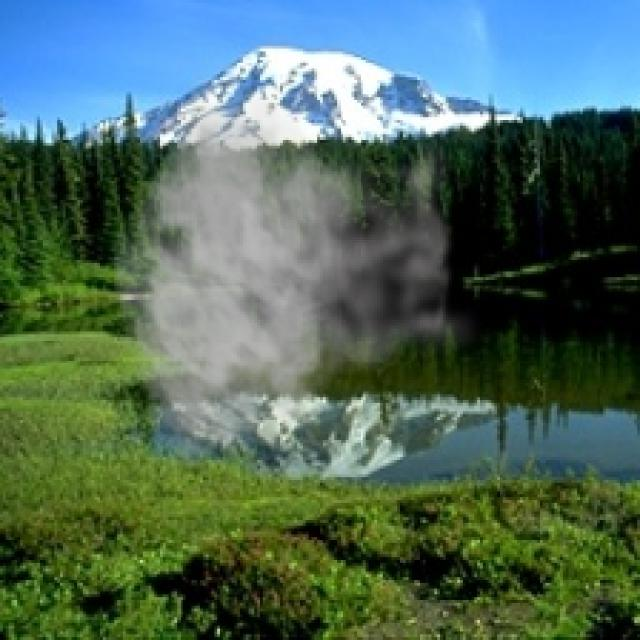smoke: (111, 71, 486, 466)
